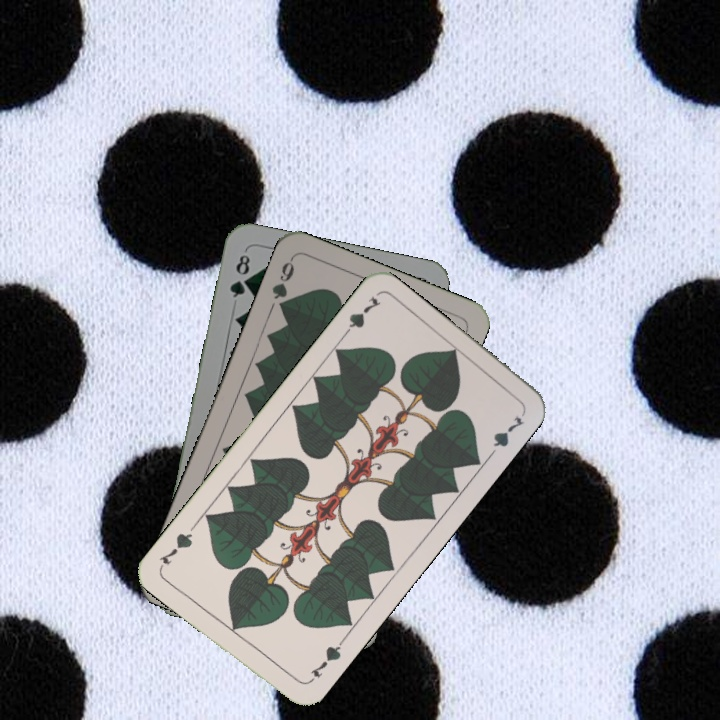G7: (337, 291, 384, 342), (304, 636, 346, 686)
G8: (225, 250, 253, 301)
G9: (267, 254, 297, 314)
